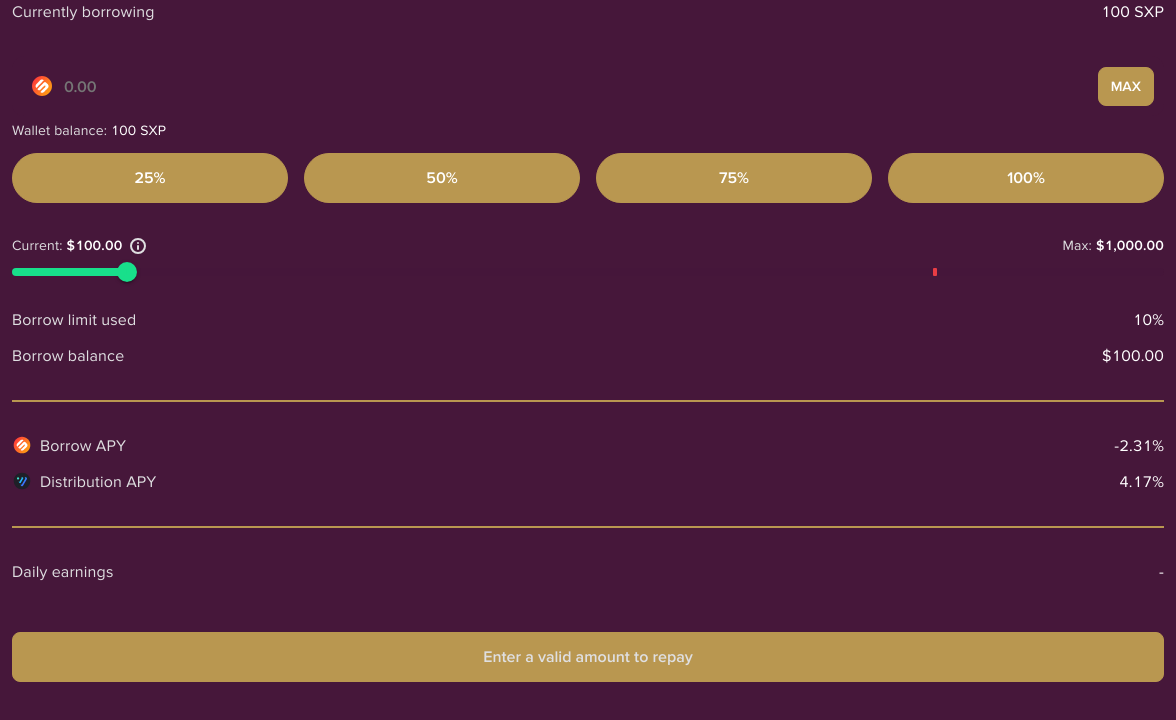
Test: pages/Dashboard/BorrowRepayModal/Repay › updates input value to correct value when pressing on preset percentage buttons
This screenshot has width=1176, height=720.
Check: the text "Enter a valid amount to repay" is shown, box [483,645,693,669]
Check: the number field with test id "repay-modal-token-text-field" is empty, box [62,66,1094,106]
Click the button "25%": (150, 178) [12,153,288,203]
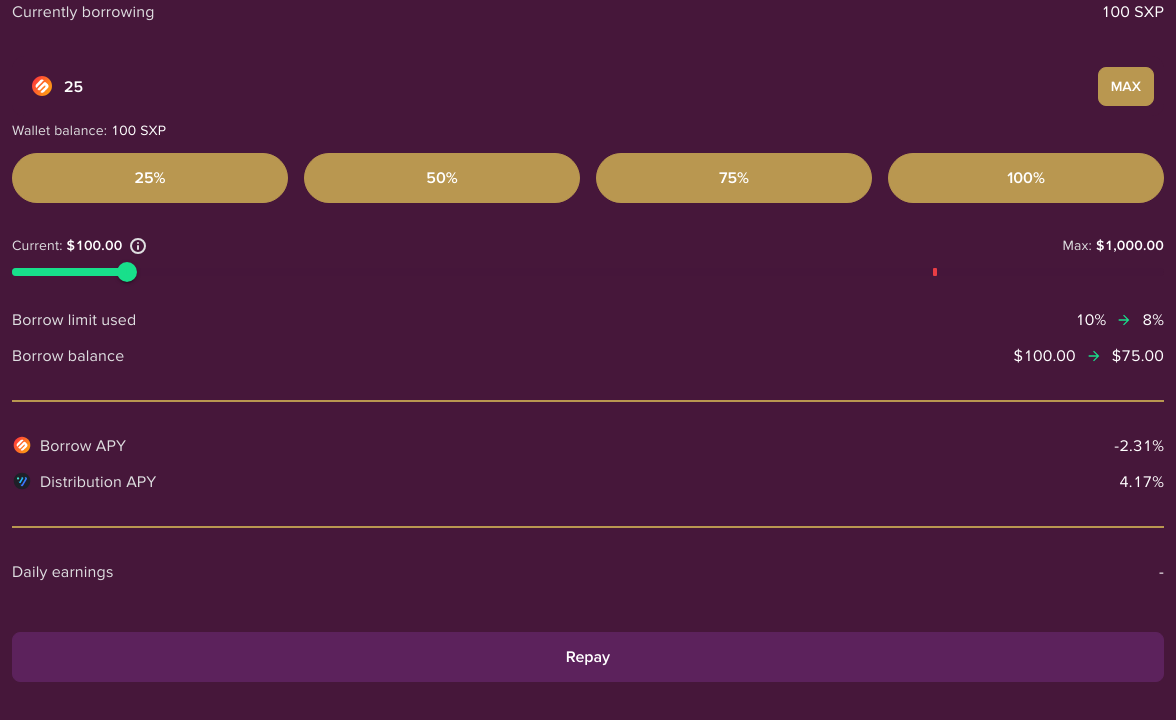
Check: the number field with test id "repay-modal-token-text-field" holds "25", box [62,66,1094,106]
Check: the button "Repay" is enabled, box [12,632,1164,682]
Click the button "50%": (442, 178) [304,153,580,203]
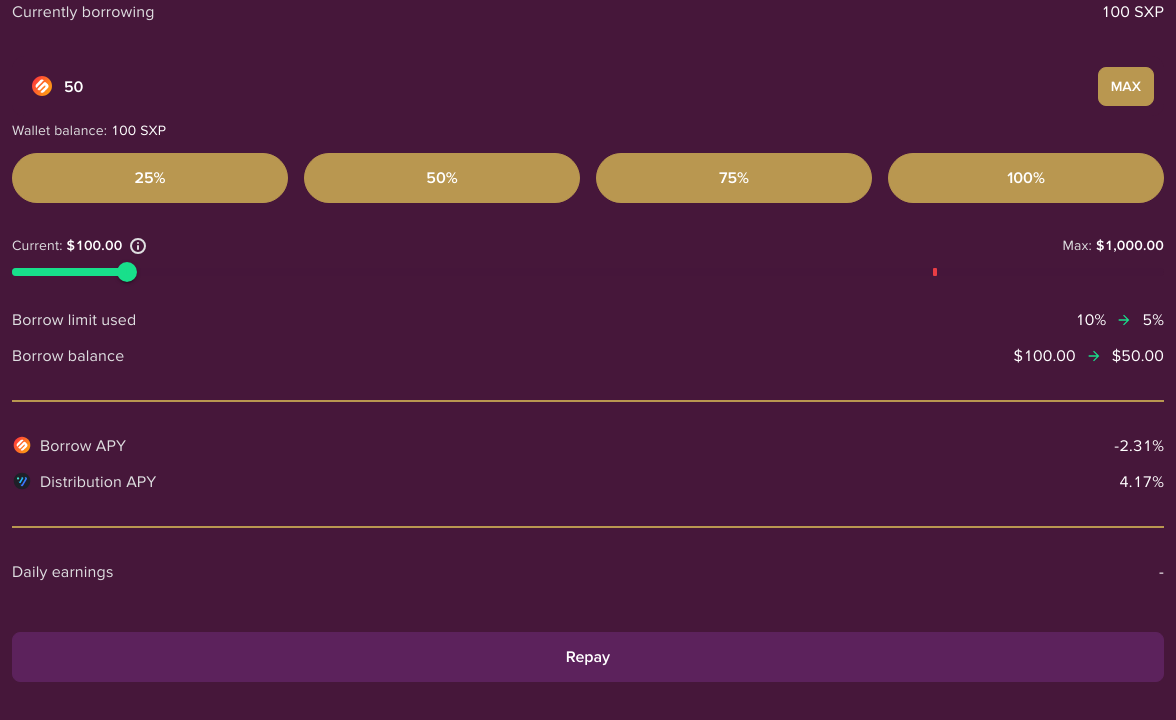
Check: the button "Repay" is enabled, box [12,632,1164,682]
Check: the number field with test id "repay-modal-token-text-field" holds "50", box [62,66,1094,106]
Click the button "75%": (734, 178) [596,153,872,203]
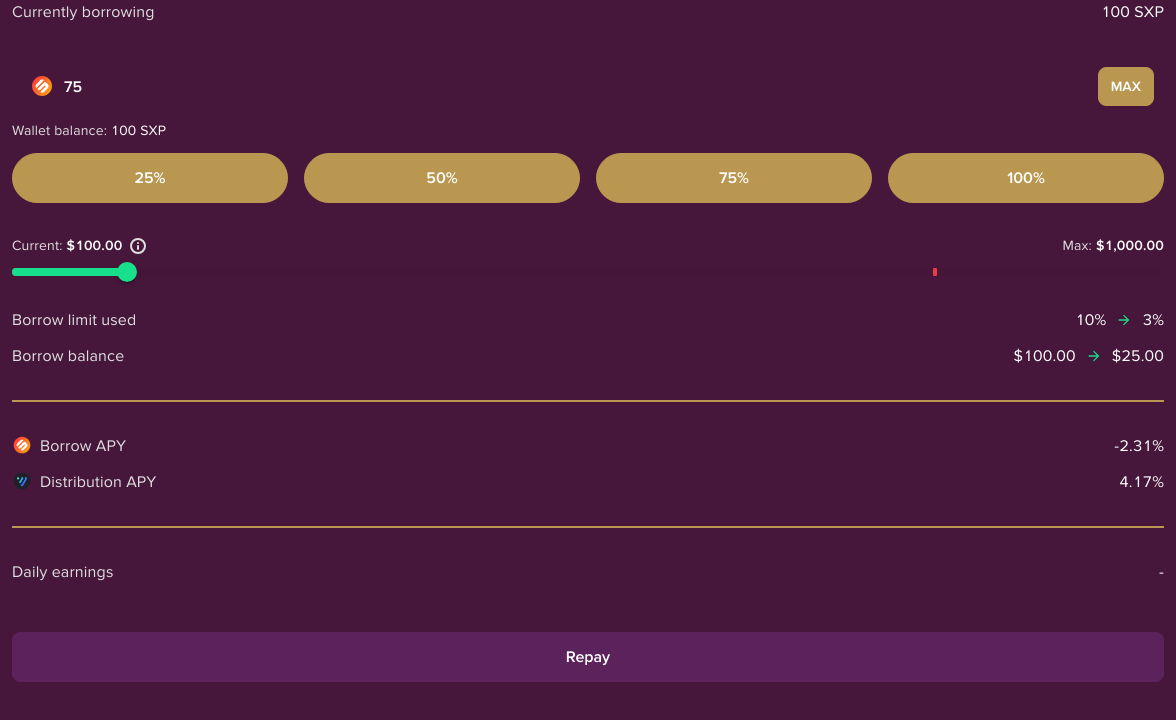
Check: the button "Repay" is enabled, box [12,632,1164,682]
Check: the number field with test id "repay-modal-token-text-field" holds "75", box [62,66,1094,106]
Click the button "100%": (1026, 178) [888,153,1164,203]
(page scrolled)
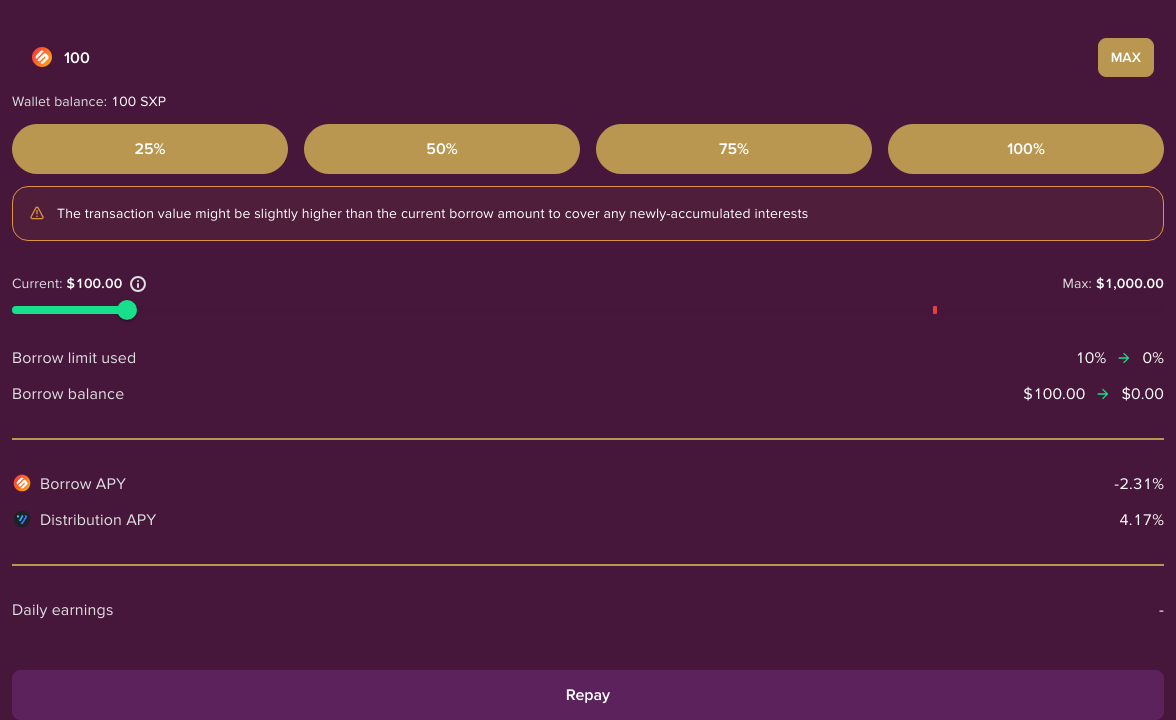
Check: the button "Repay" is enabled, box [12,670,1164,719]
Check: the number field with test id "repay-modal-token-text-field" holds "100", box [62,37,1094,77]
